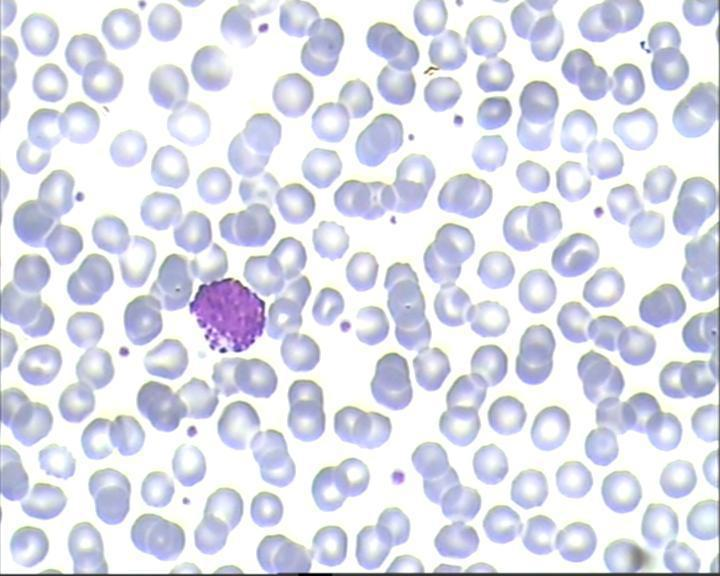baso: (183, 272, 270, 363)
